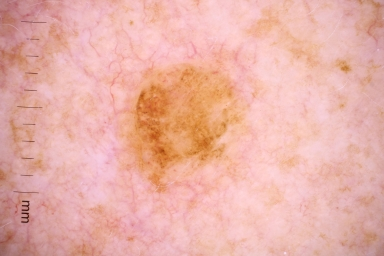nevus: (136, 72, 230, 172)
